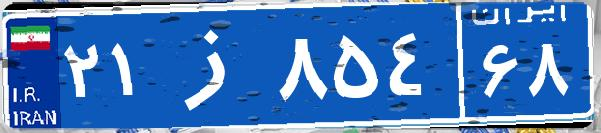1: (110, 28, 158, 105)
2: (57, 26, 110, 107)
4: (385, 28, 445, 110)
5: (330, 28, 385, 110)
6: (475, 38, 525, 113)
8: (273, 28, 330, 110), (525, 38, 570, 115)
ز: (158, 15, 273, 115)
